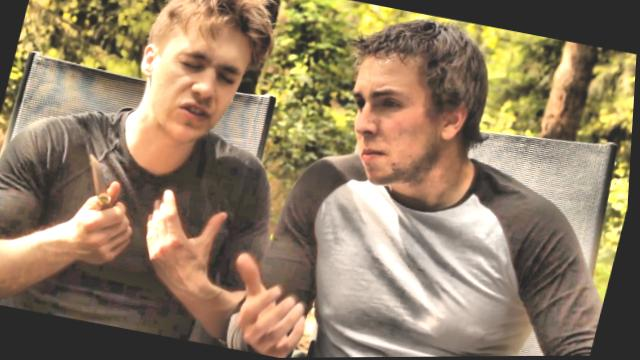knife: (69, 146, 155, 236)
